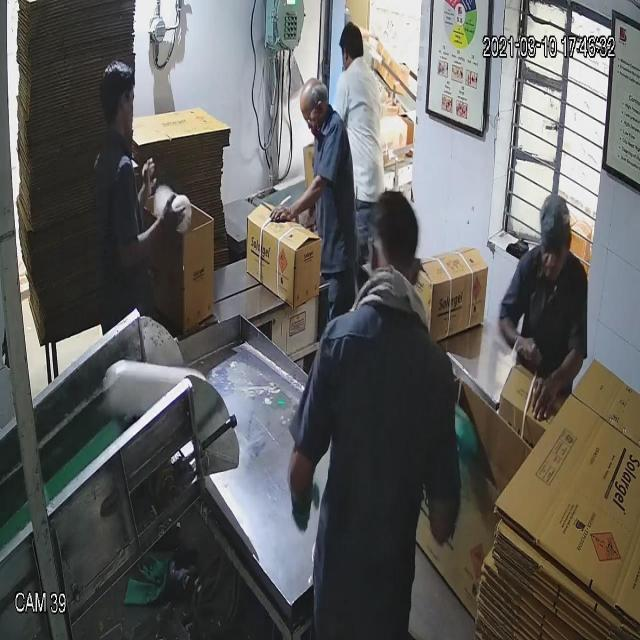No_Gloves: (64, 74, 560, 380)
